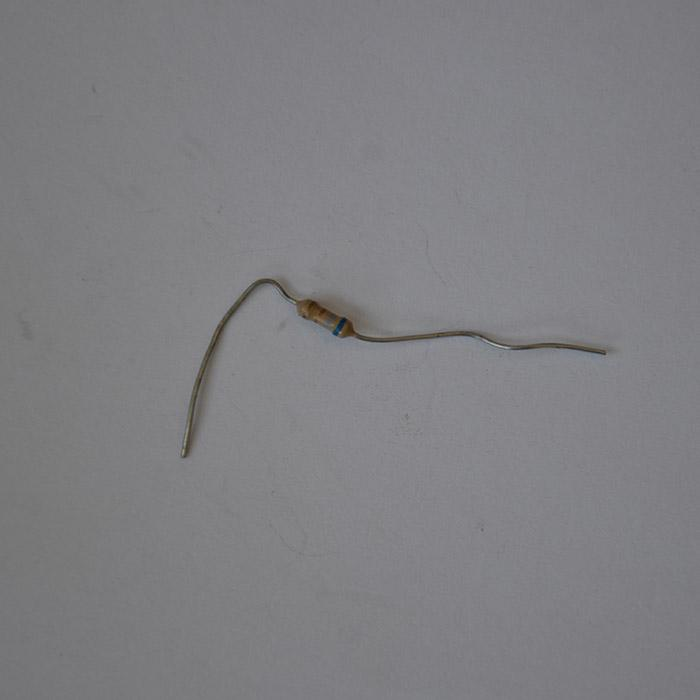resistor: (294, 296, 355, 338)
